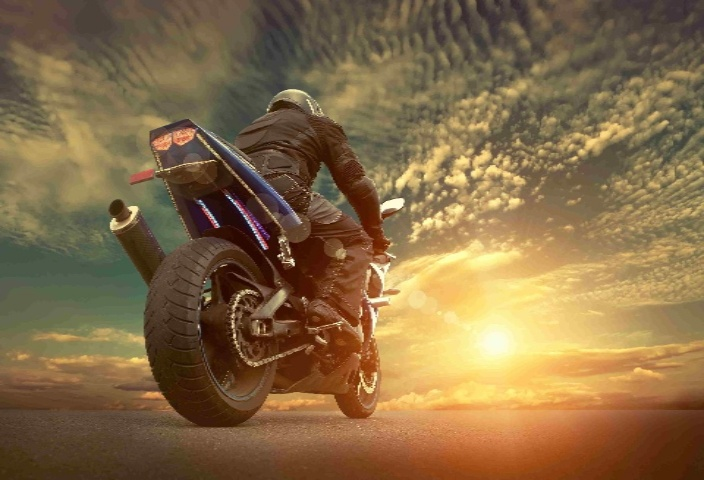motorcycle: (97, 34, 405, 427)
